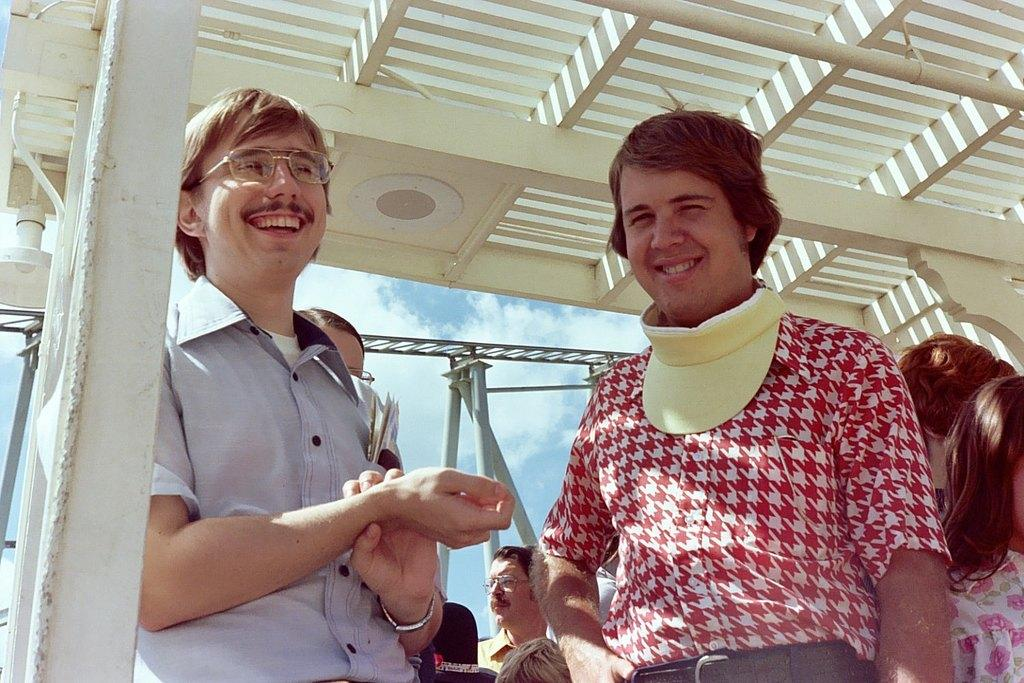Sem Máscara: (196, 108, 324, 285), (623, 157, 749, 315)
